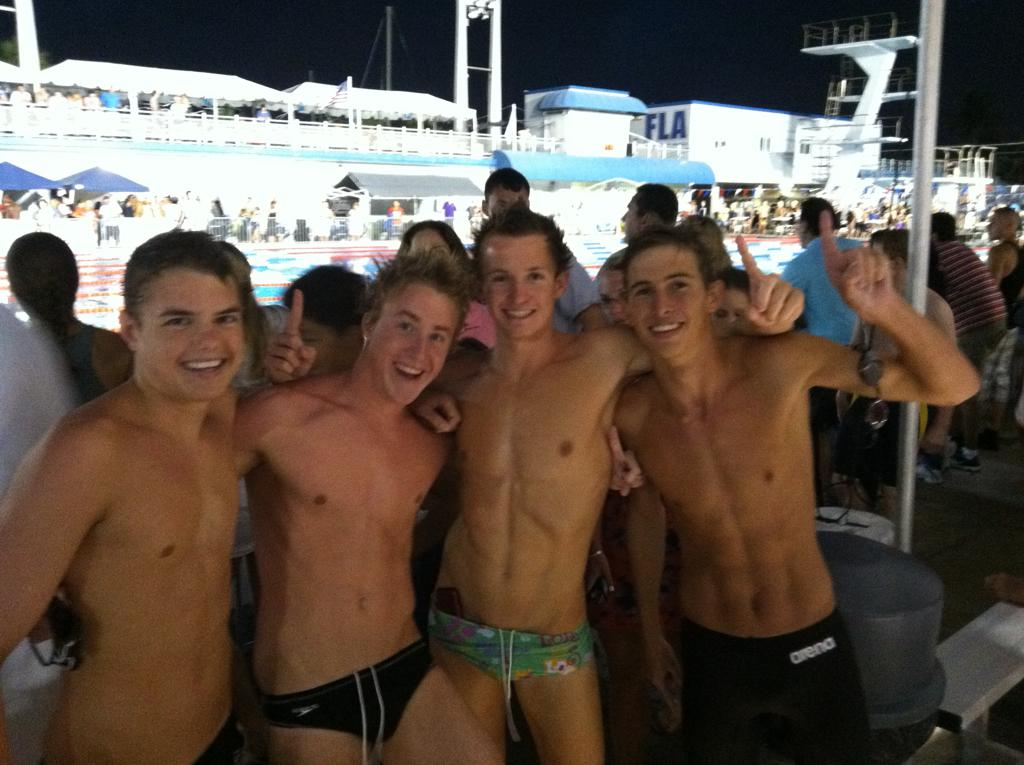face: (150, 278, 236, 398), (372, 294, 450, 402), (628, 252, 702, 350), (482, 234, 554, 330)
